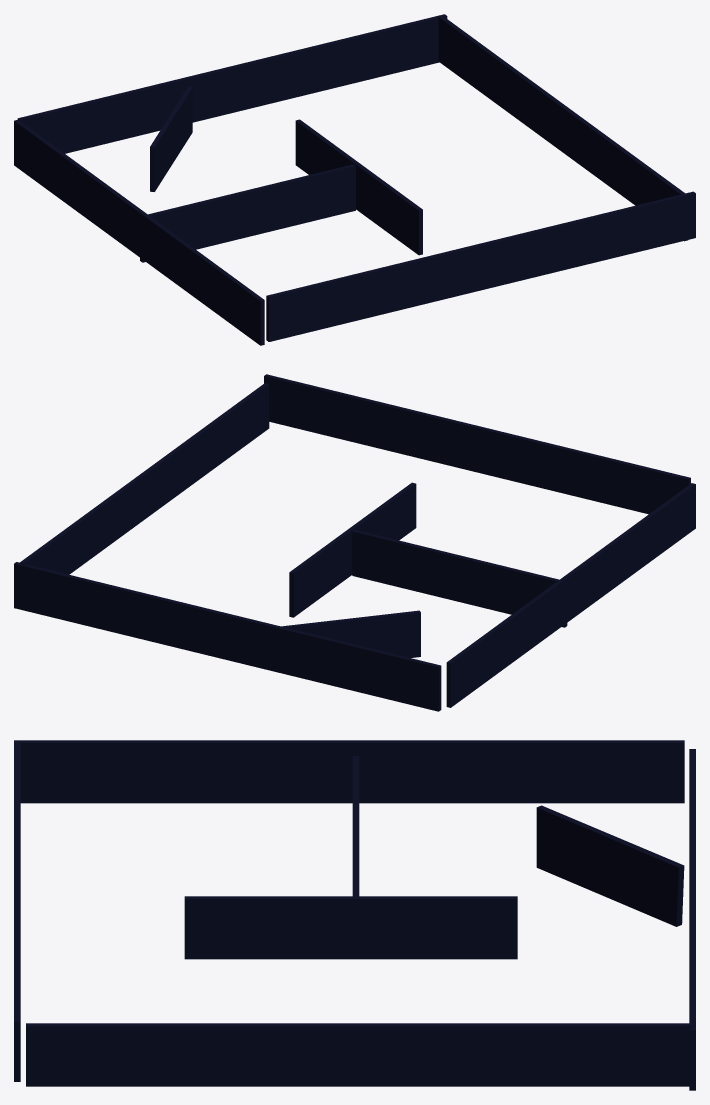
File: mapa.dae
The picture shows the model from 3 angles, top to bottom: view 1: azimuth 30°, elevation 25°; view 2: azimuth 150°, elevation 25°; view 3: azimuth 270°, elevation 25°; orthographic projection. The views are drawn at different scales.
Visible parts, largest first — view 1: Cube_006; view 2: Cube_006; view 3: Cube_006.
Boxes of the visible parts, <box> form: Cube_006: <box>14,14,695,345</box>; Cube_006: <box>14,374,695,711</box>; Cube_006: <box>14,740,695,1090</box>.
Bounding box in the file's own units: 204 × 205 × 25.46.
